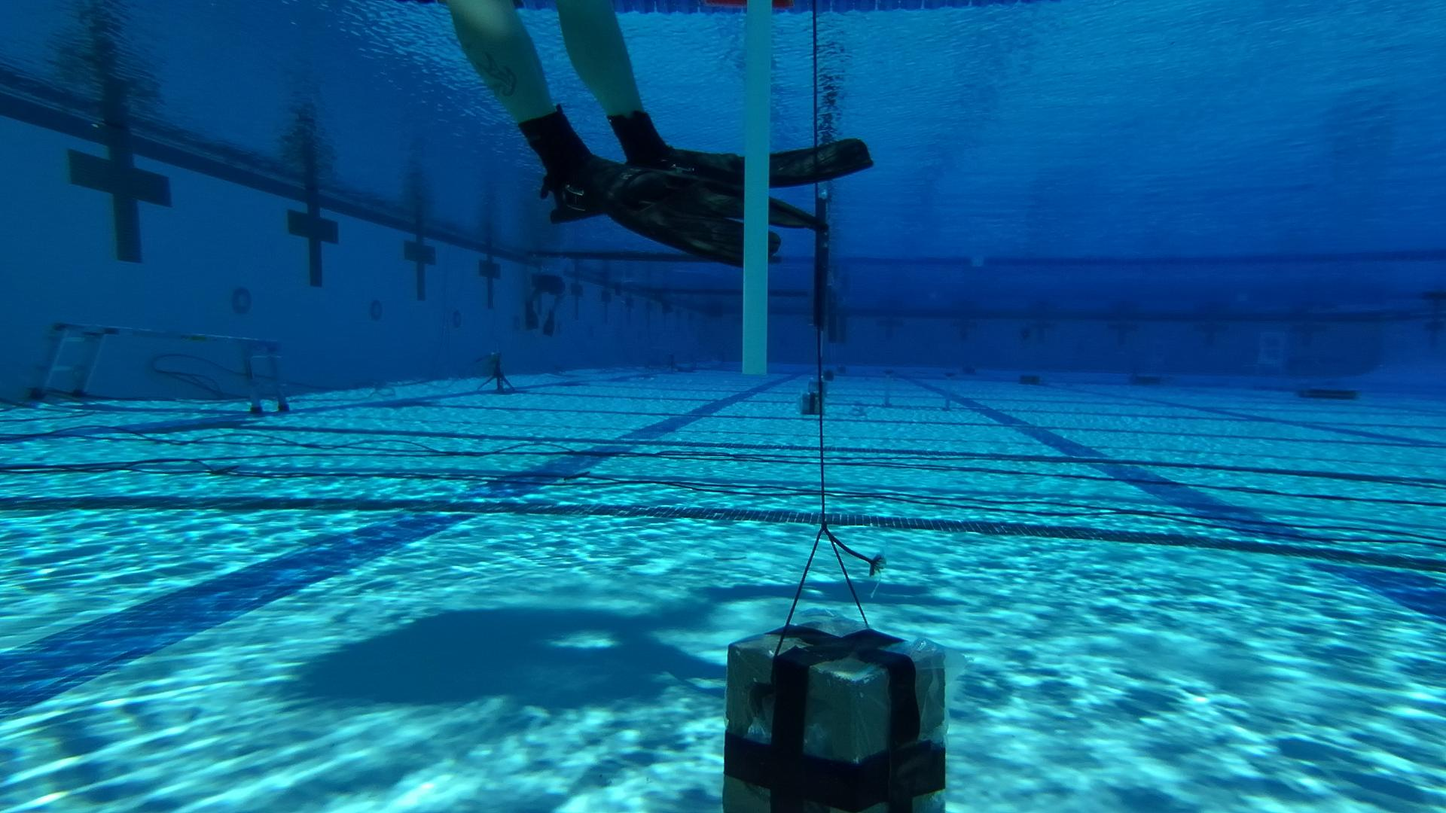path: (12, 309, 309, 402)
